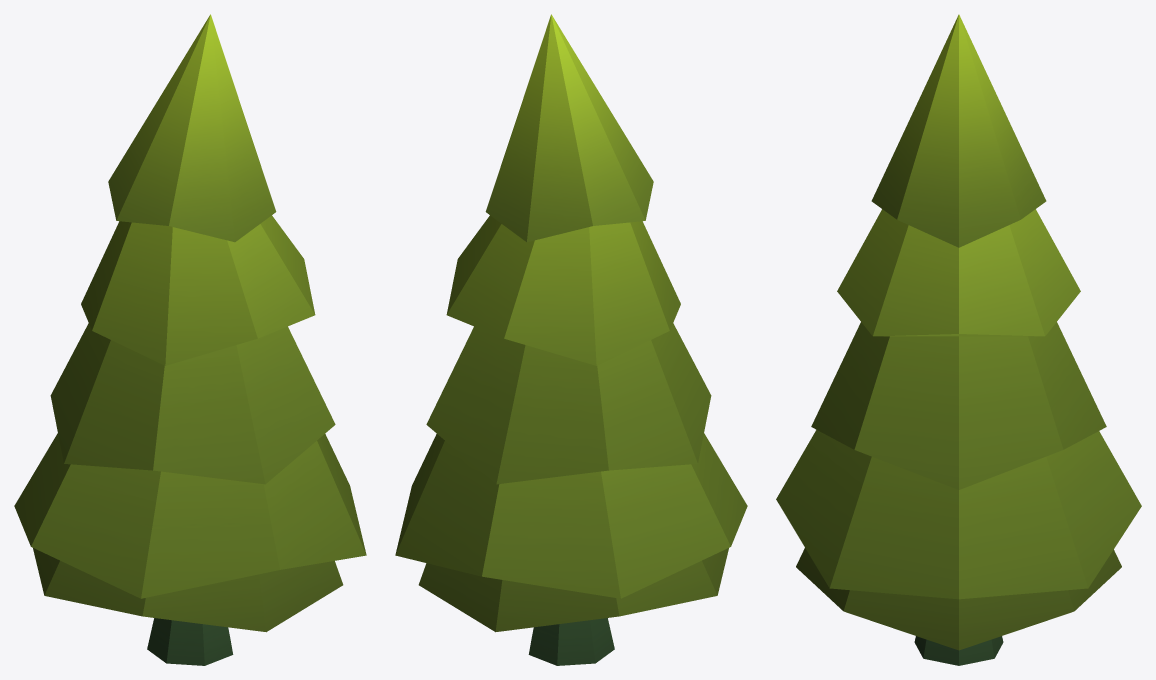
File: tree_1.fbx
3 views of the same model, side by side, from view 1: azimuth 30°, elevation 25°; view 2: azimuth 150°, elevation 25°; view 3: azimuth 270°, elevation 25° (orthographic). The views are drawn at different scales.
Parts seen in each view (by area): view 1: tree_1; view 2: tree_1; view 3: tree_1.
Boxes of the visible parts, box(x1,y1,x2,y2) form: tree_1: box(14, 14, 366, 665); tree_1: box(395, 14, 747, 665); tree_1: box(776, 14, 1141, 665).
Bounding box in the file's own units: 237 × 446 × 230.
